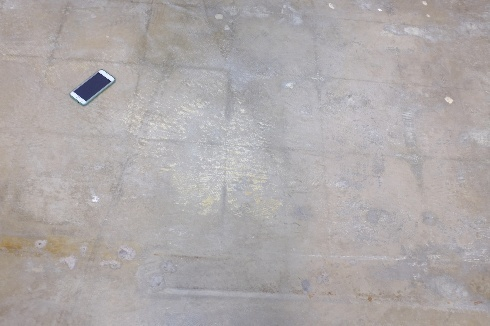phone: (69, 71, 118, 103)
